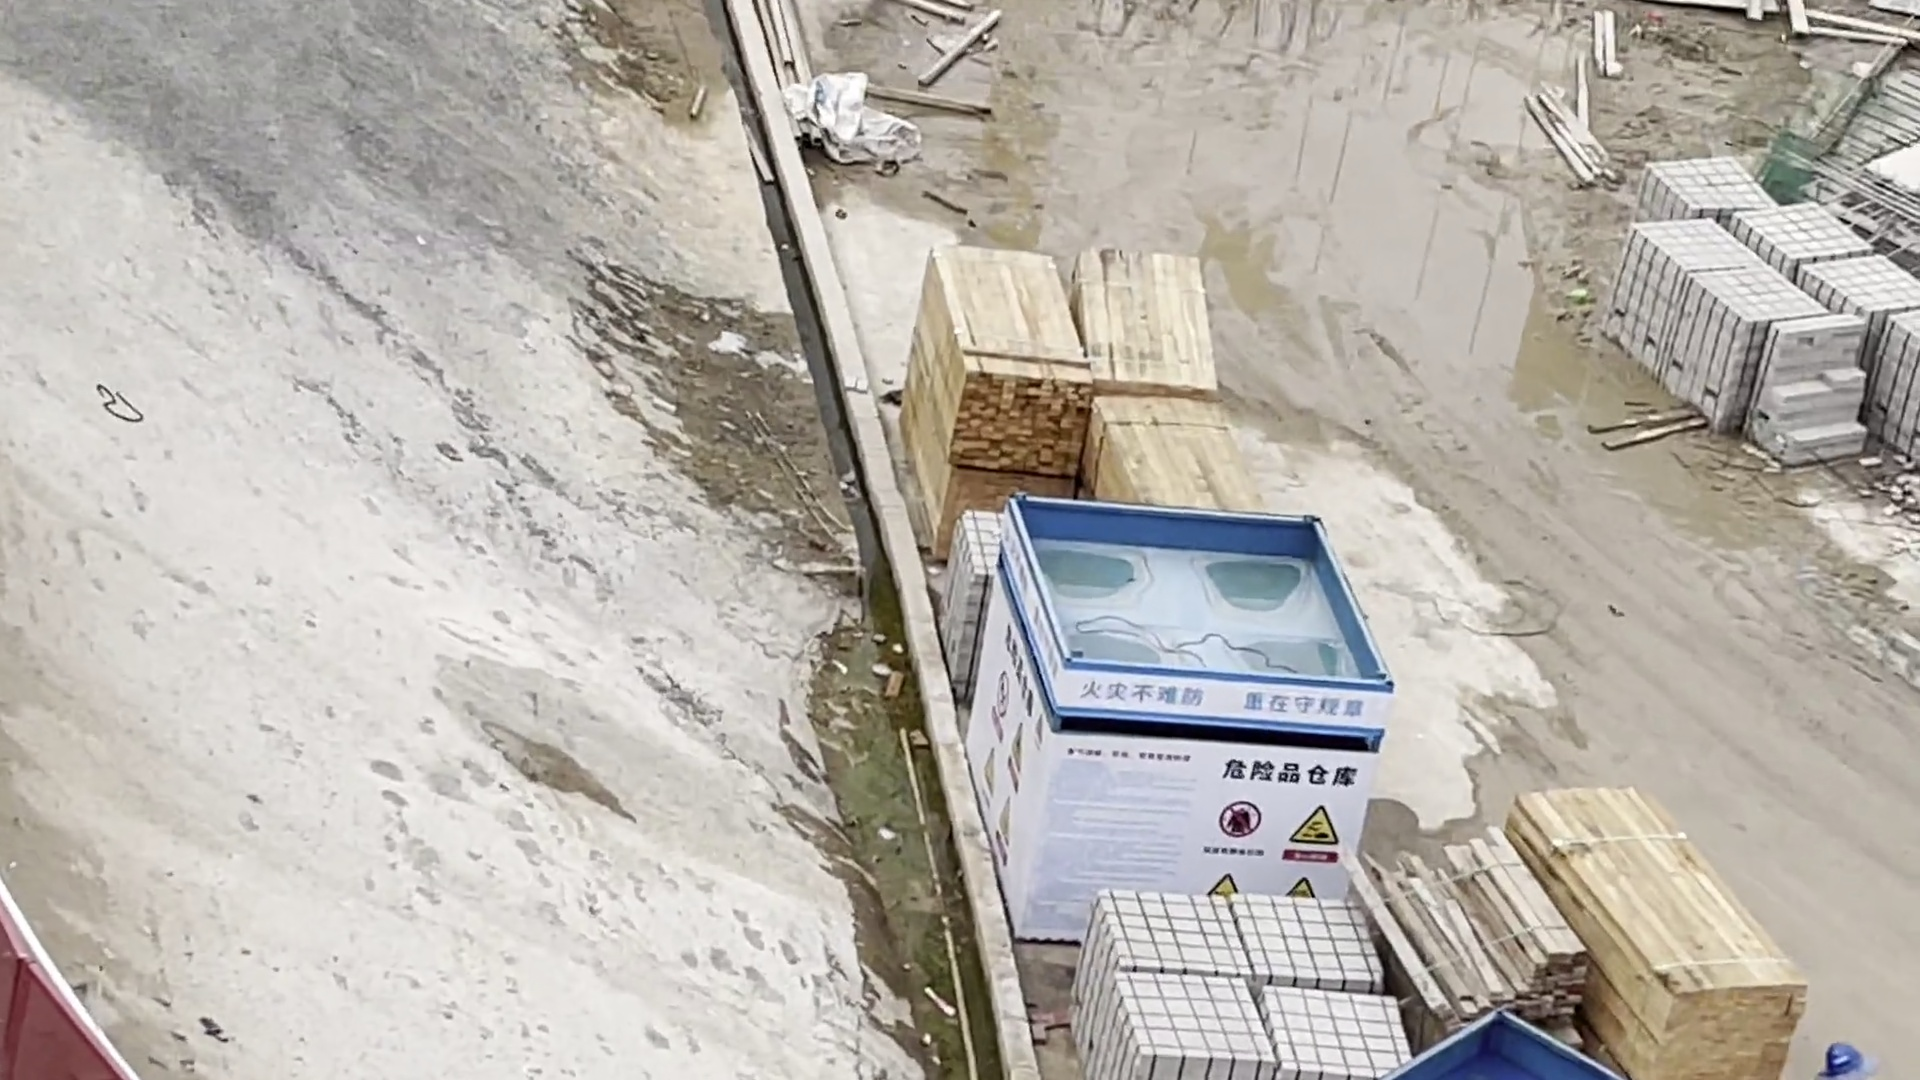brick: (1590, 145, 1920, 493), (1048, 884, 1419, 1080), (934, 498, 1013, 704)
fence: (1, 884, 167, 1080)
helmet: (1816, 1034, 1880, 1079)
slogan: (1040, 662, 1387, 932), (945, 495, 1054, 942)
wood: (1367, 778, 1825, 1065), (884, 222, 1323, 506)
